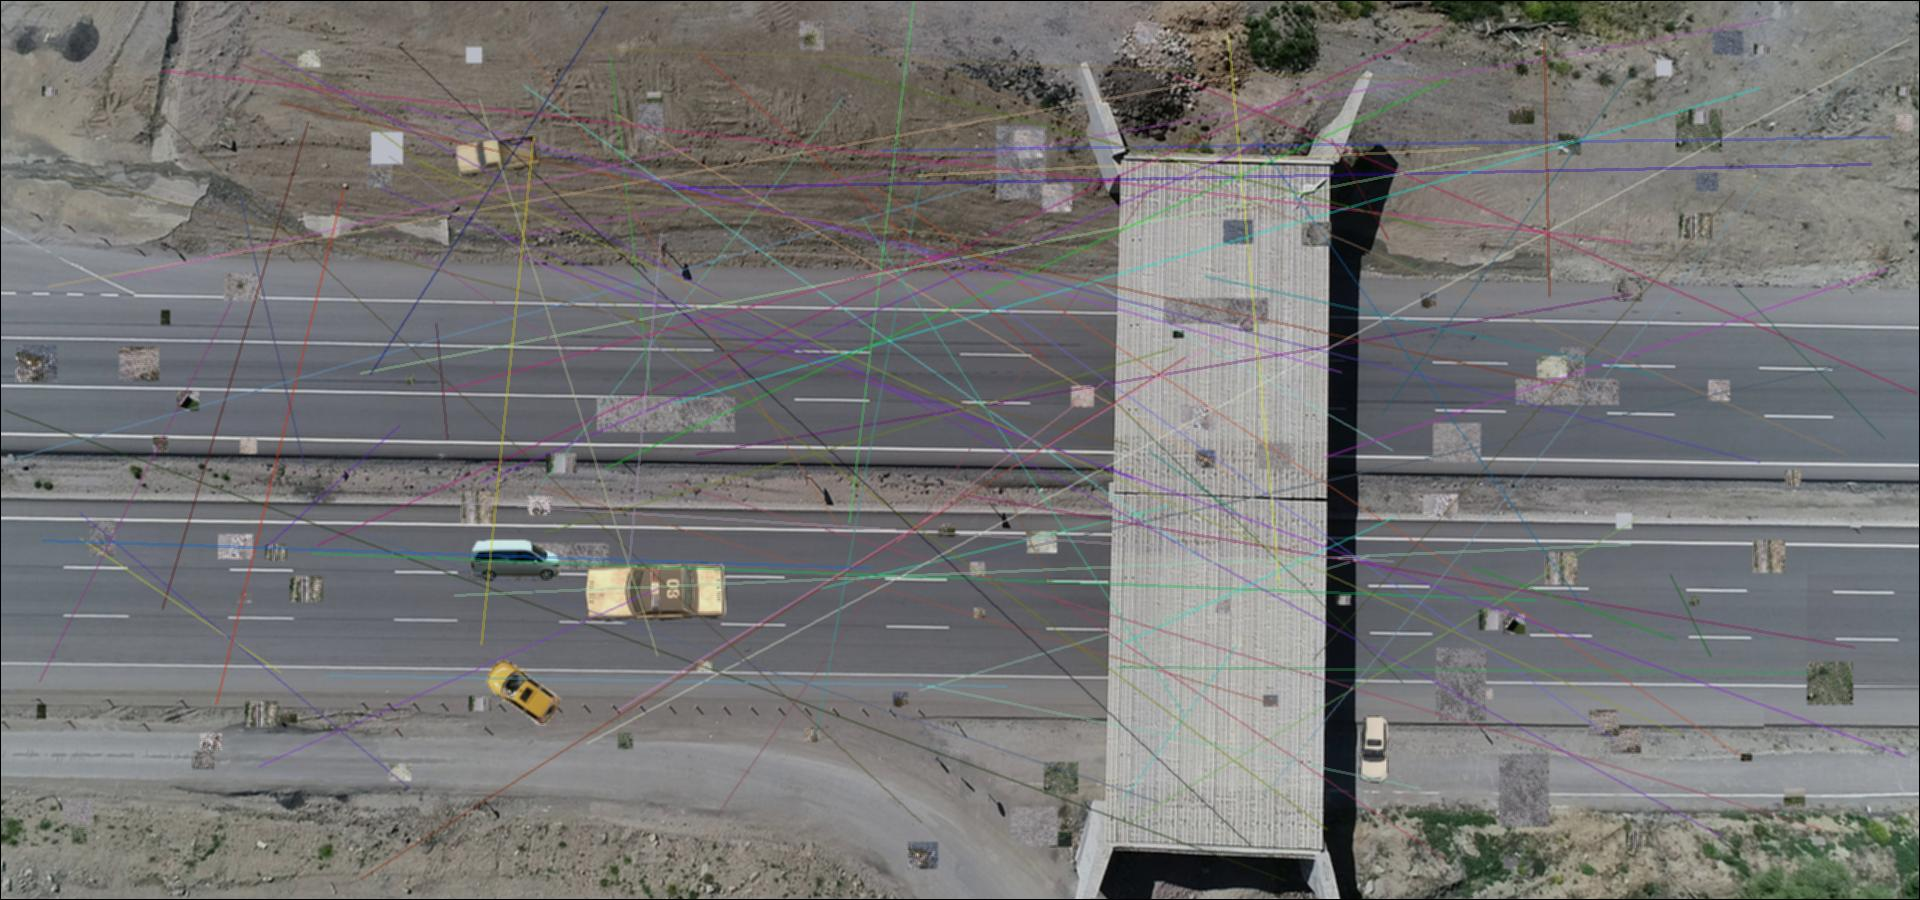arac: (580, 562, 729, 623), (482, 658, 561, 725), (469, 540, 562, 580), (456, 135, 540, 179), (1357, 716, 1392, 782)
